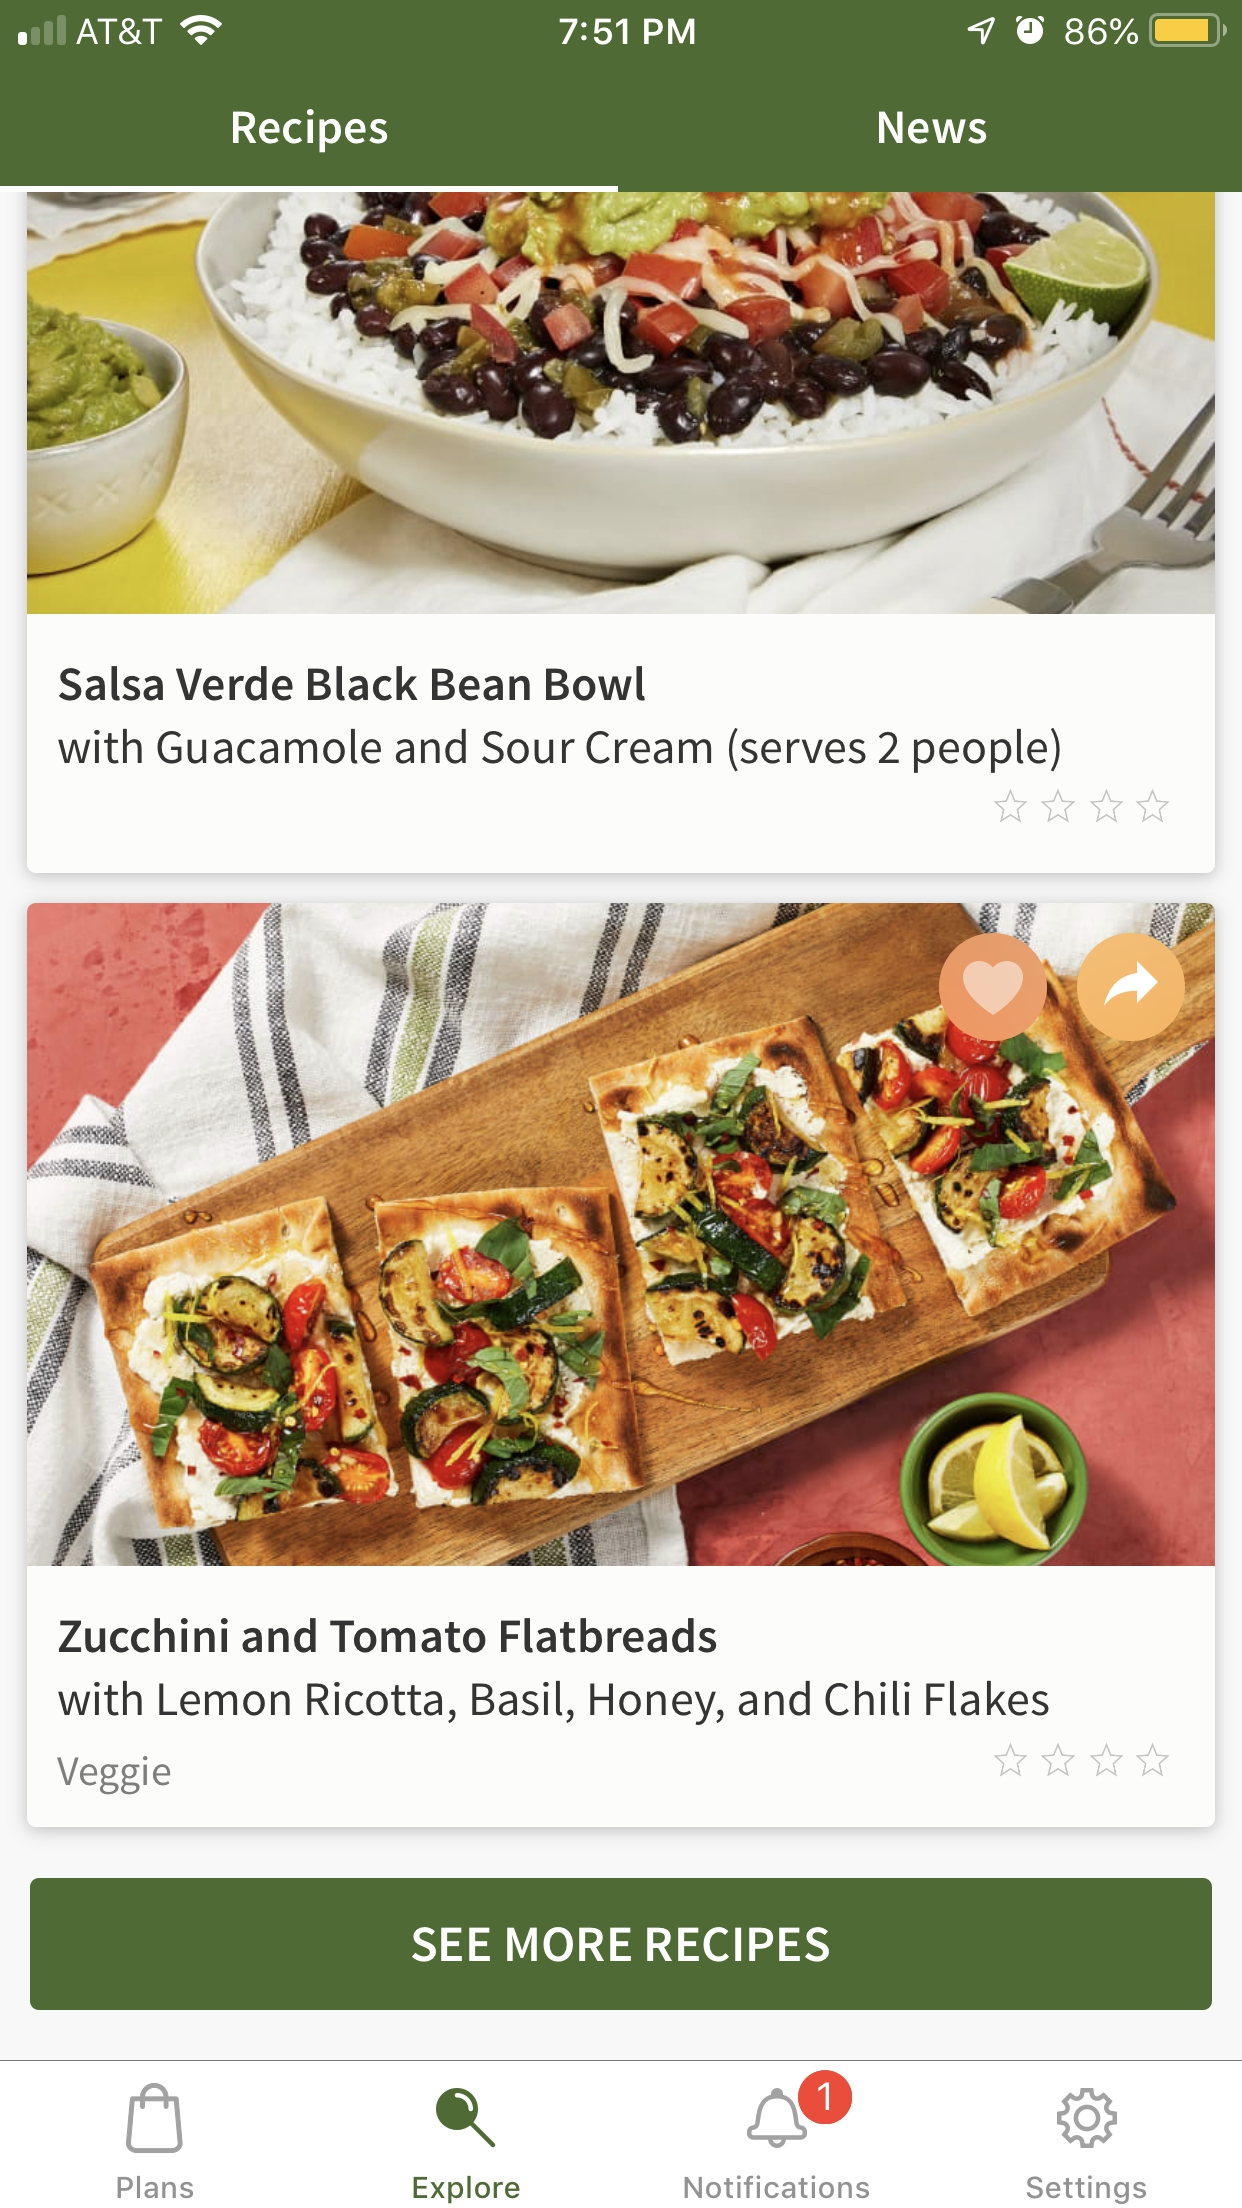Icon: (1077, 933, 1186, 1043), (939, 933, 1046, 1042), (746, 2068, 852, 2149), (993, 789, 1171, 823), (993, 1742, 1171, 1777), (126, 2082, 185, 2153), (1055, 2088, 1118, 2149), (437, 2087, 497, 2147)
Image: (27, 902, 1216, 1567), (27, 193, 1216, 616)
Text: (58, 728, 1062, 775), (58, 1680, 1049, 1726), (59, 666, 648, 704), (56, 1617, 714, 1650), (234, 109, 390, 155), (58, 1755, 171, 1796), (684, 2175, 870, 2199), (878, 111, 987, 146), (1027, 2175, 1146, 2205), (412, 2175, 522, 2205), (118, 2175, 196, 2200)
TextButton: (30, 1877, 1213, 2011)
UpperTaskBar: (2, 2, 1242, 49)
